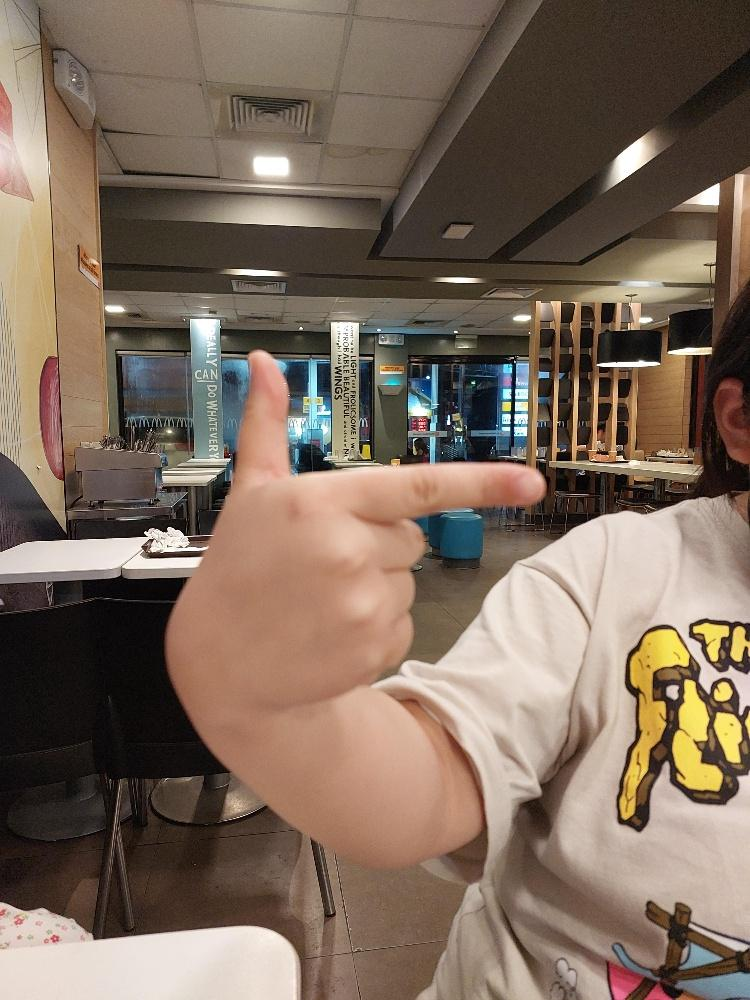g: (161, 348, 547, 709)
